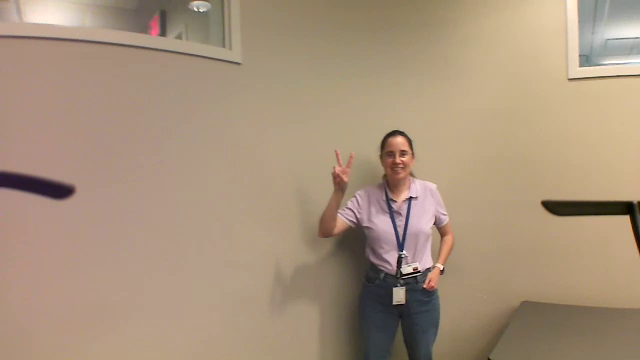peace: (326, 145, 358, 193)
